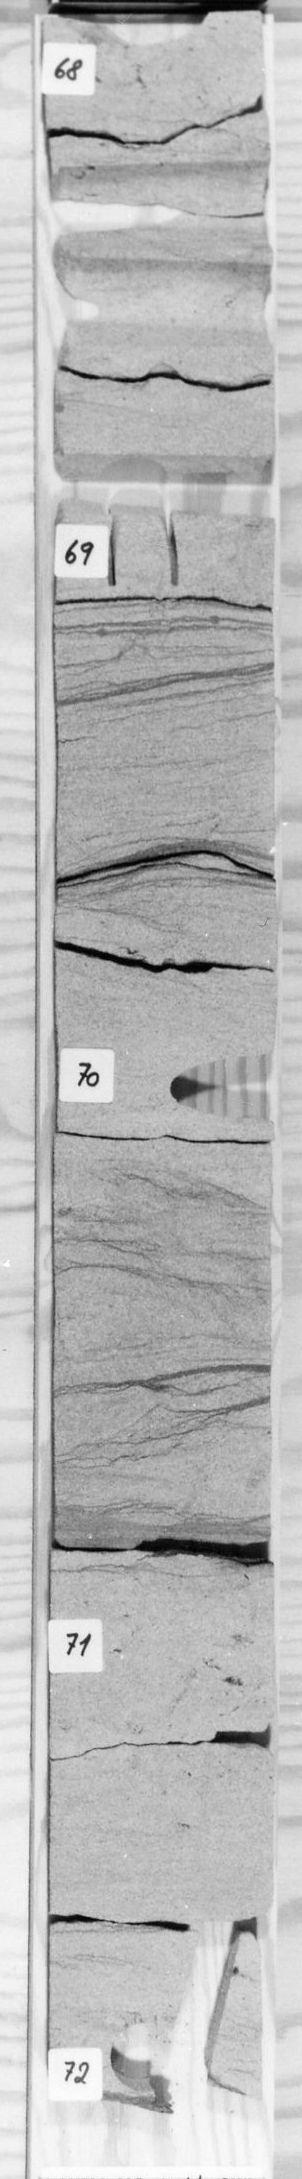hplug: (58, 454, 277, 527), (160, 1042, 270, 1133), (97, 2014, 171, 2098), (77, 17, 217, 56)
scal: (50, 151, 269, 256), (58, 256, 269, 354)
vplug: (167, 1918, 244, 2110), (95, 447, 182, 589)
